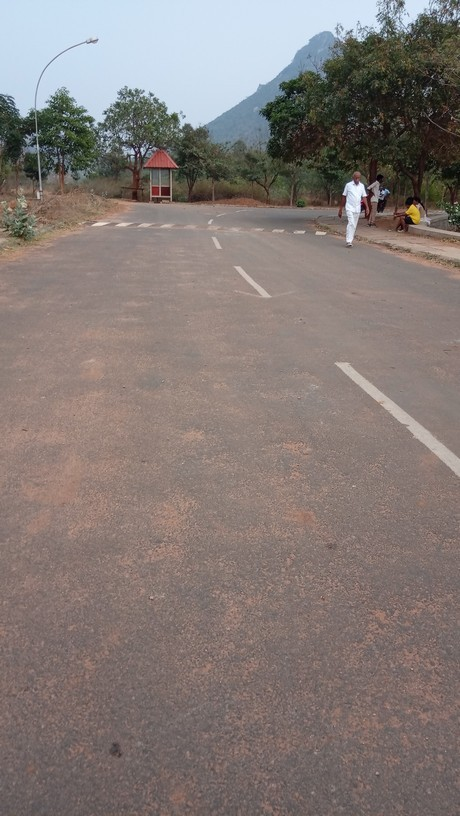bump: (75, 215, 330, 242)
